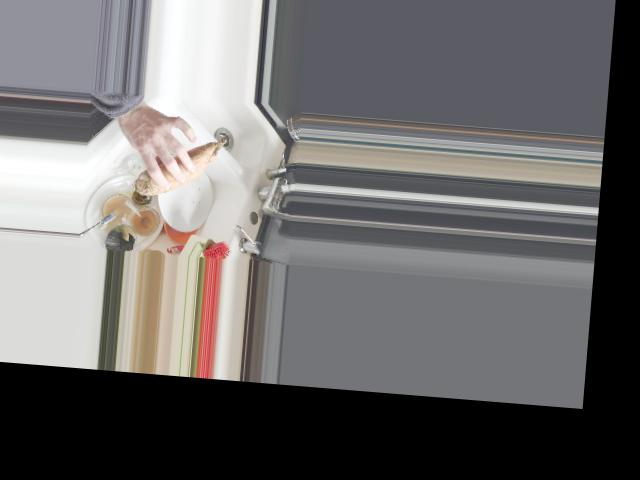sweet_potato: (134, 131, 227, 202)
